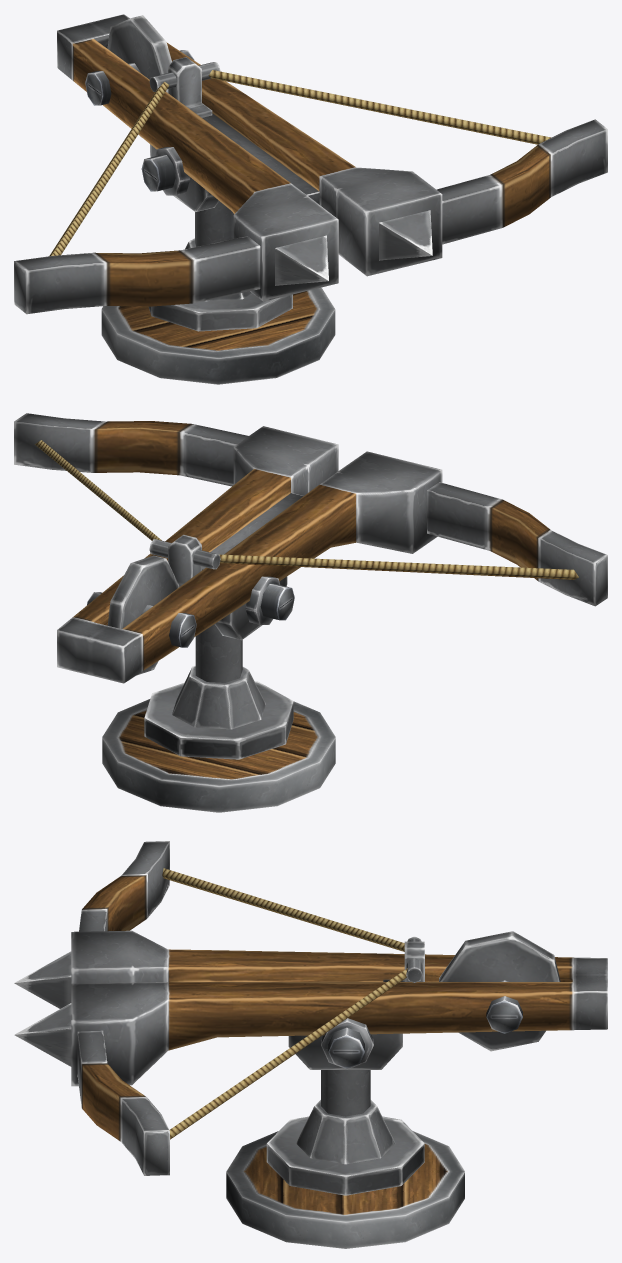
File: Crossbow_L2.FBX
3 renders of one model, top to bottom at view 1: azimuth 30°, elevation 25°; view 2: azimuth 150°, elevation 25°; view 3: azimuth 270°, elevation 25°, orthographic. The views are drawn at different scales.
Visible parts, largest first — view 1: CrossBow_CrossBow_L2, CrossBow_Base_L2, CrossBow_Hub_L2; view 2: CrossBow_CrossBow_L2, CrossBow_Base_L2, CrossBow_Hub_L2; view 3: CrossBow_CrossBow_L2, CrossBow_Base_L2, CrossBow_Hub_L2.
Part boxes in pixels (box(x1,y1,x2,y2)): CrossBow_CrossBow_L2: box(14, 14, 607, 314); CrossBow_Base_L2: box(101, 287, 335, 384); CrossBow_Hub_L2: box(148, 201, 292, 331); CrossBow_CrossBow_L2: box(14, 413, 607, 683); CrossBow_Base_L2: box(102, 699, 335, 812); CrossBow_Hub_L2: box(144, 624, 293, 759); CrossBow_CrossBow_L2: box(14, 841, 607, 1175); CrossBow_Base_L2: box(226, 1131, 464, 1248); CrossBow_Hub_L2: box(266, 1070, 424, 1195).
Size of the model in its own units: 5.39 by 4.67 by 2.29.
